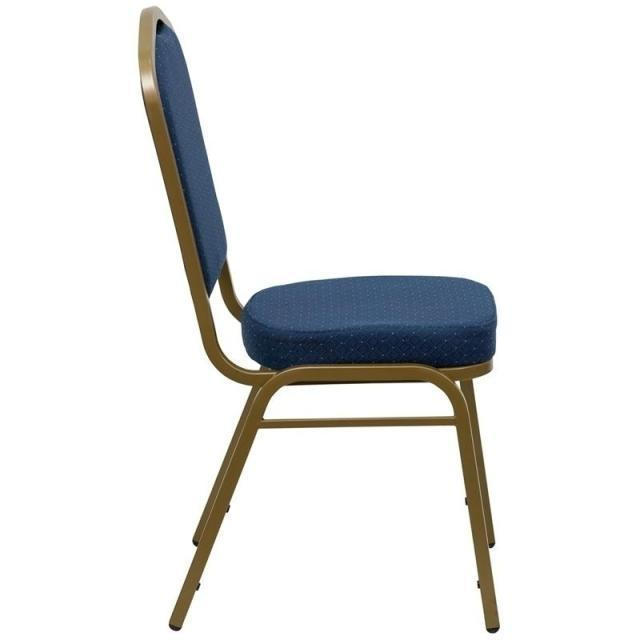chair: (126, 3, 504, 640)
